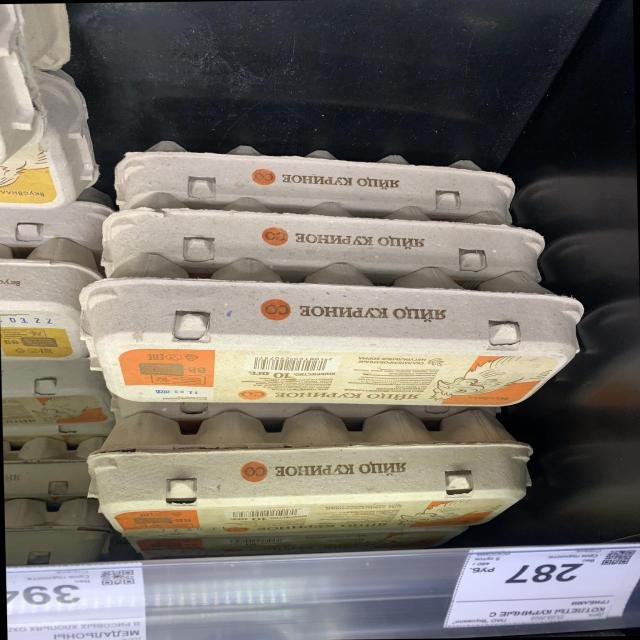organic waste: (75, 247, 598, 412), (85, 406, 537, 536)
